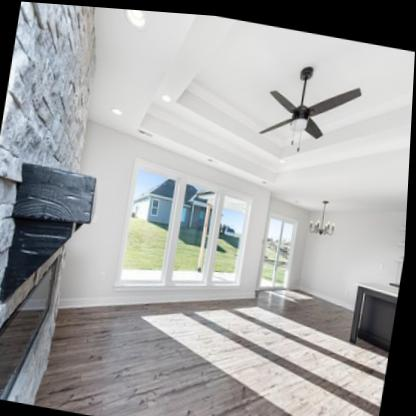Window: (117, 157, 258, 283), (262, 208, 300, 288)
